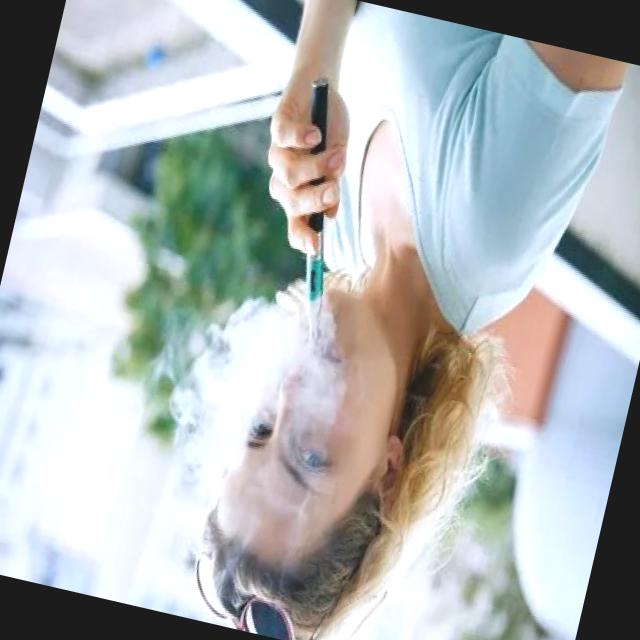smoke: (253, 70, 380, 348)
